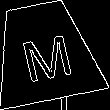M_N: (15, 23, 74, 81)
